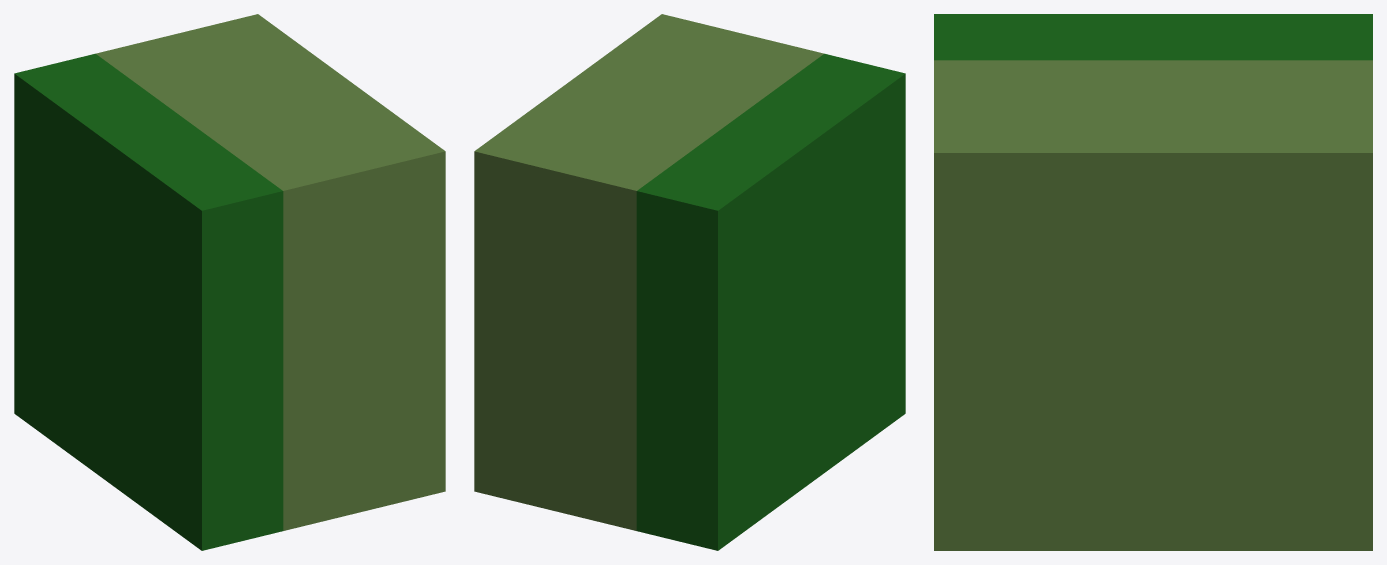
The model's file is Saleev_R.fbx.
3 views of the same model, side by side, from view 1: azimuth 30°, elevation 25°; view 2: azimuth 150°, elevation 25°; view 3: azimuth 270°, elevation 25° (orthographic). The views are drawn at different scales.
Visible parts, largest first — view 1: Saleev_R; view 2: Saleev_R; view 3: Saleev_R.
Part boxes in pixels (x1=…): Saleev_R: x1=14, y1=14, x2=445, y2=550; Saleev_R: x1=474, y1=14, x2=905, y2=550; Saleev_R: x1=934, y1=14, x2=1372, y2=550.
Bounding box in the file's own units: 30 × 40 × 40.
Materials: 1 (1 with a texture image).
